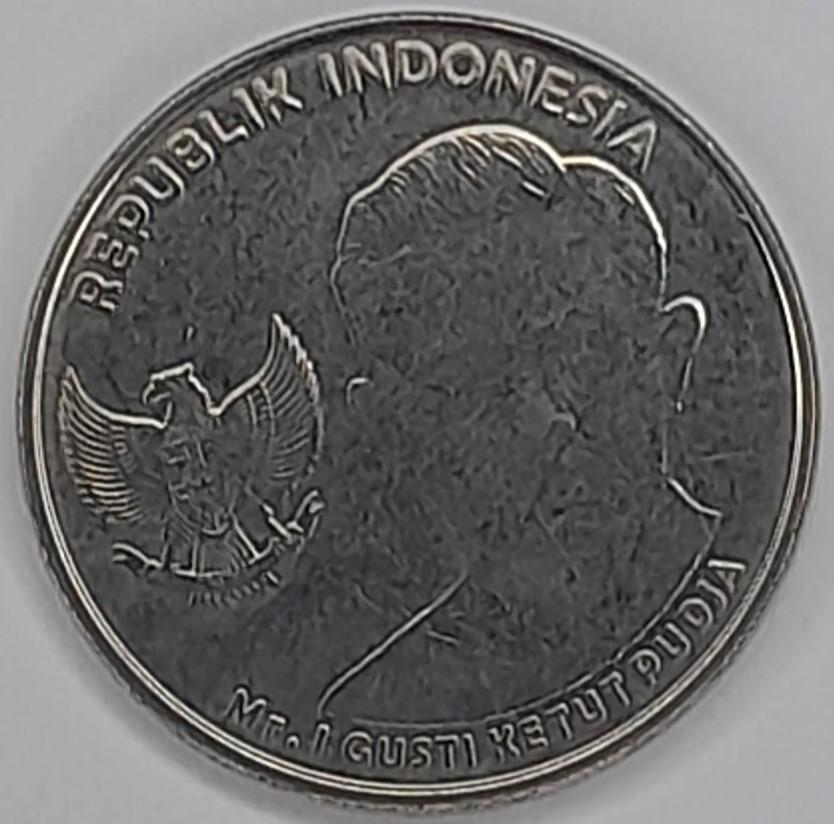coin_1000_e2016: (14, 16, 823, 824)
